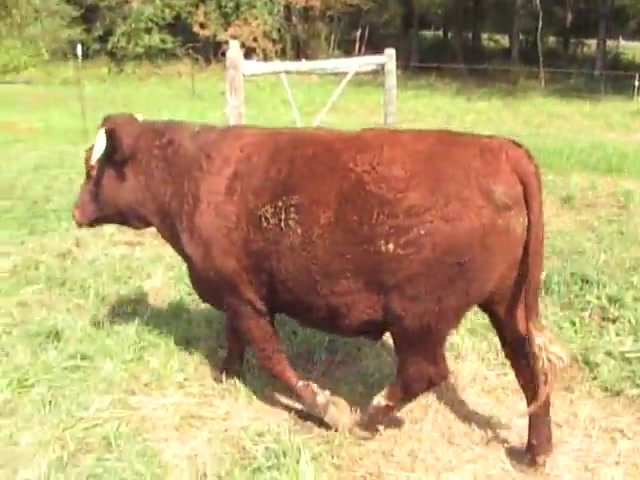cow: (72, 116, 557, 470)
